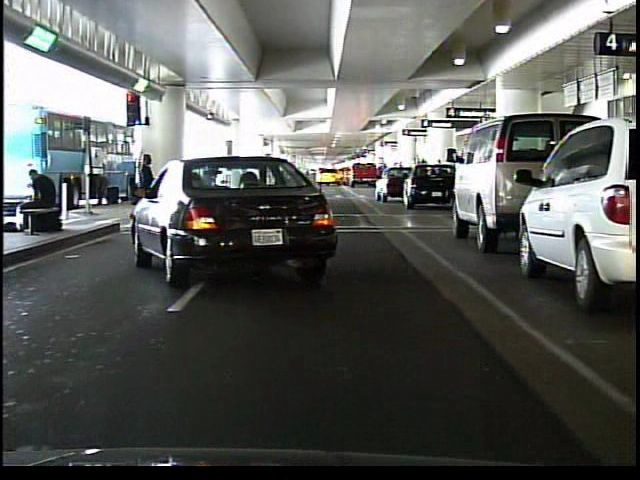person: (22, 165, 60, 239), (128, 150, 158, 231)
